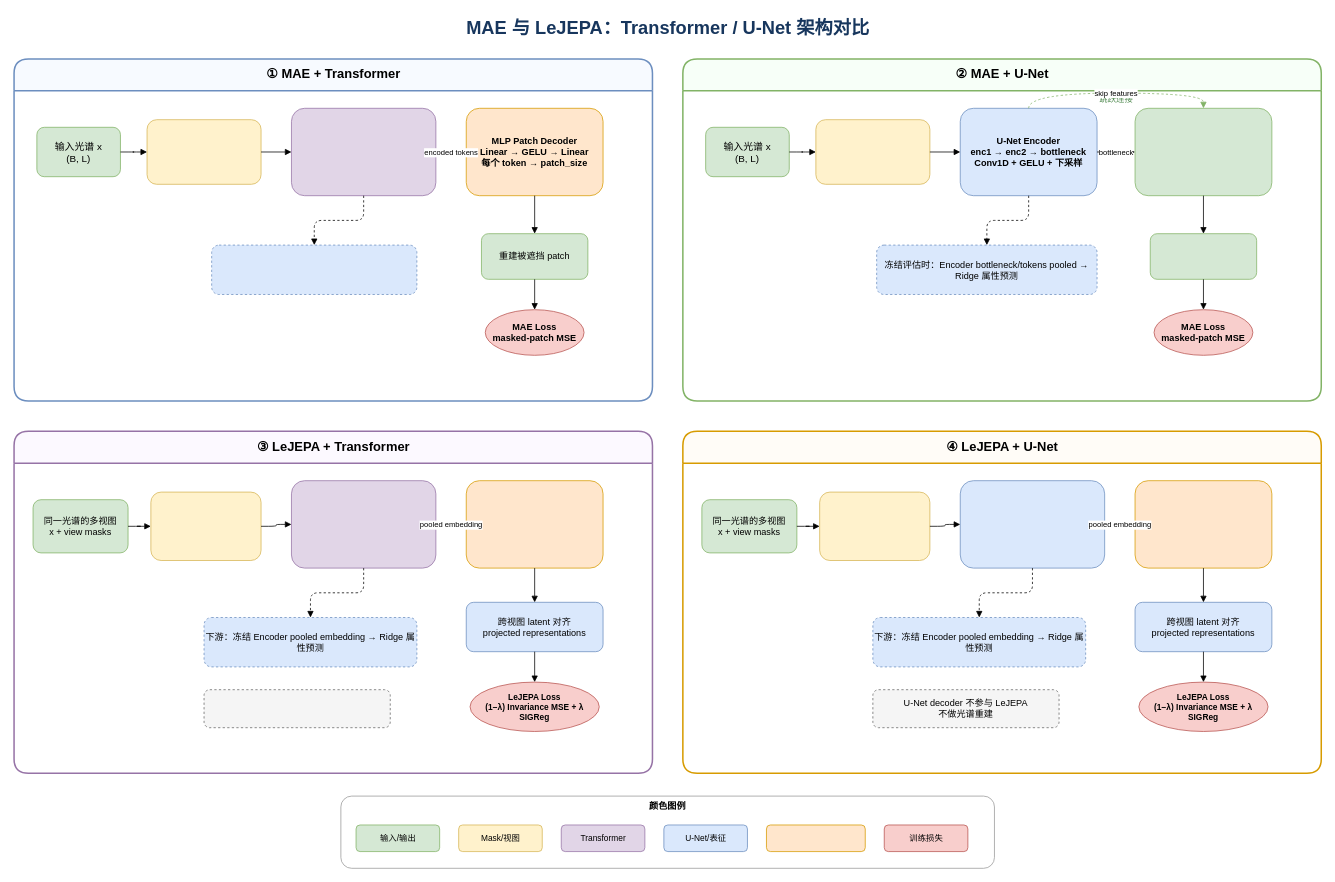
Some shapes in this 1335 by 882 pixel diagram are drawn without their labels. The shapes that lost their labels are listed below. From the top down, each one's centre as x and y in pixels, then its label:
the point at 203,151: Patchify + Mask 被遮挡 patch → mask token
the point at 363,152: Transformer Encoder Patch projection + 位置编码 Self-Attention + MLP × depth
the point at 872,151: Patchify + Mask 被遮挡区域 → mask value
the point at 1203,152: U-Net Decoder up → skip connection → dec → output
the point at 314,269: 冻结评估时：Encoder pooled embedding → Ridge 属性预测
the point at 1203,256: 重建完整光谱 并恢复 patch 形状
the point at 205,525: 每个 mask 生成一个视图 可见 patch 保留
the point at 363,524: 共享 Transformer Encoder 每个视图分别编码 visible-token pooled embedding
the point at 534,524: Predictor / Projector Linear → GELU → Linear embedding → projection_dim
the point at 874,525: 每个 mask 生成一个视图 遮挡区域 → mask value
the point at 1032,524: 共享 U-Net Encoder enc1 → enc2 → bottleneck 仅使用编码路径
the point at 1203,524: Predictor / Projector Linear → GELU → Linear 结构与 Transformer 情况相同
the point at 296,708: 不使用 decoder；不做输入重建
the point at 815,838: Decoder/Projector
